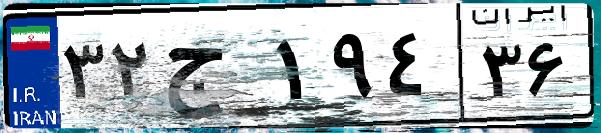1: (270, 28, 330, 110)
2: (110, 28, 158, 98)
3: (57, 26, 110, 100), (475, 38, 525, 113)
4: (385, 28, 445, 110)
6: (525, 38, 570, 115)
9: (330, 28, 385, 110)
ج: (158, 20, 270, 120)
